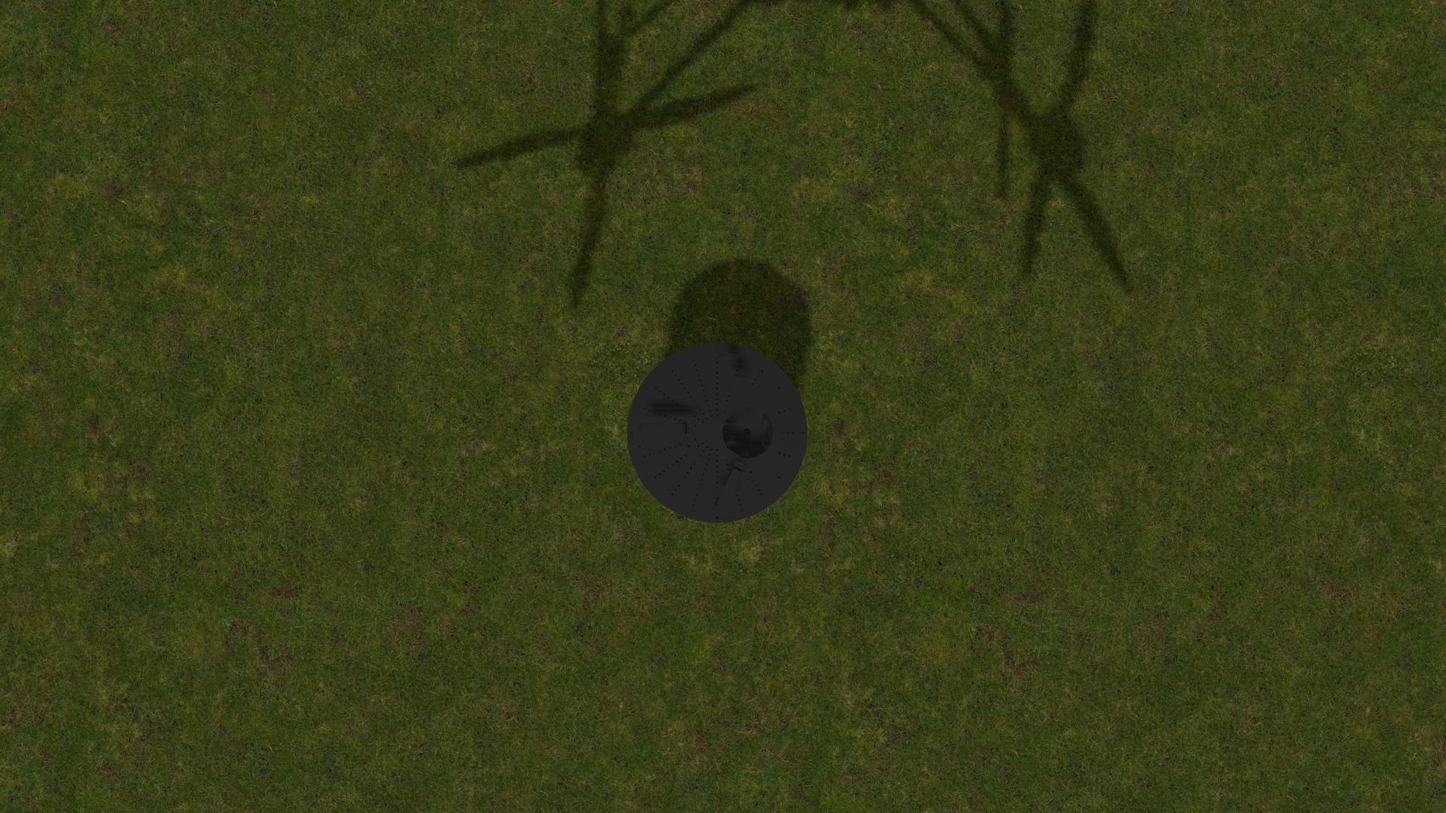alca: (712, 460, 745, 515), (714, 349, 745, 403), (637, 423, 692, 435)
armadilha: (627, 342, 807, 523)
